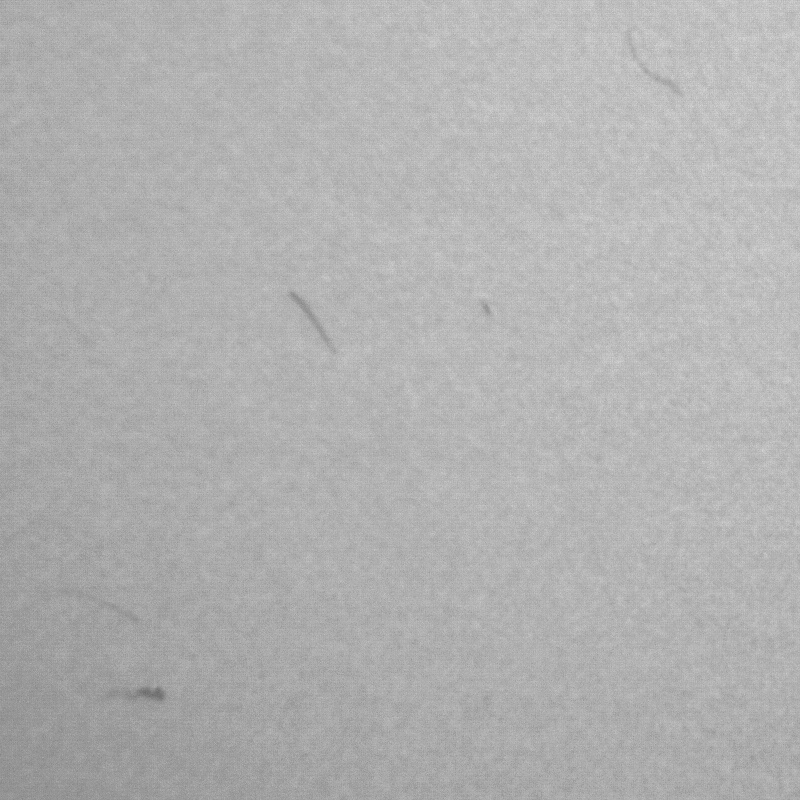defect: (630, 26, 691, 100), (288, 290, 341, 359), (61, 583, 150, 624), (97, 687, 173, 708), (480, 298, 501, 327)
